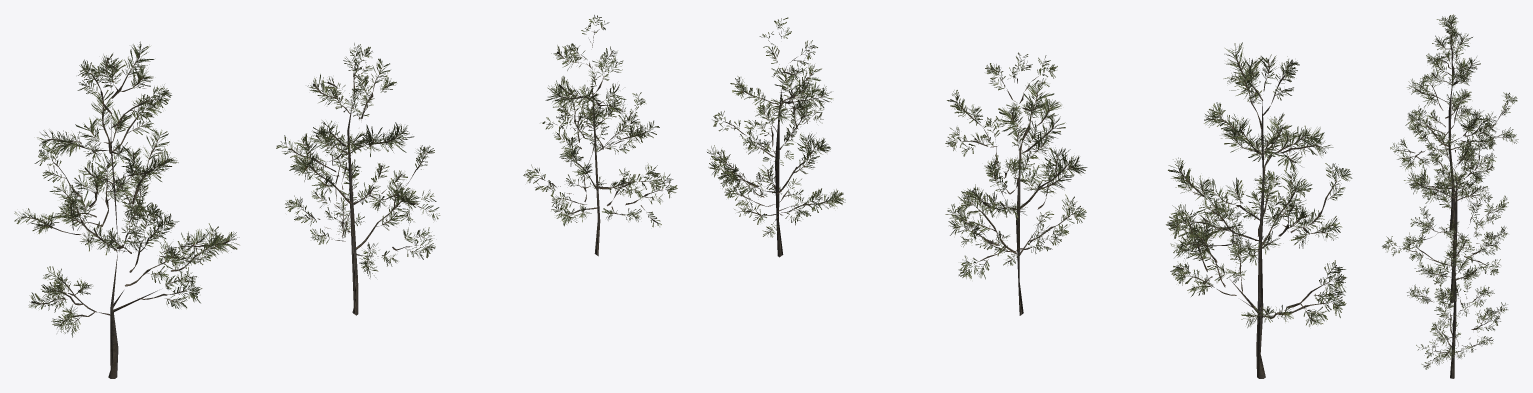
The model's file is pine_sapling_small.glb.
3 renders of one model, left to right at view 1: azimuth 30°, elevation 25°; view 2: azimuth 150°, elevation 25°; view 3: azimuth 270°, elevation 25°, orthographic. The views are drawn at different scales.
Visible parts, largest first — view 1: pine_sapling_small_b; view 2: pine_sapling_small_b; view 3: pine_sapling_small_b.
Boxes of the visible parts, x1=… form: pine_sapling_small_b: x1=14, y1=15, x2=677, y2=378; pine_sapling_small_b: x1=707, y1=17, x2=1352, y2=378; pine_sapling_small_b: x1=1382, y1=14, x2=1518, y2=378.
Size of the model in its own units: 2.64 by 1.3 by 0.7684.
2 materials, 2 textured.
